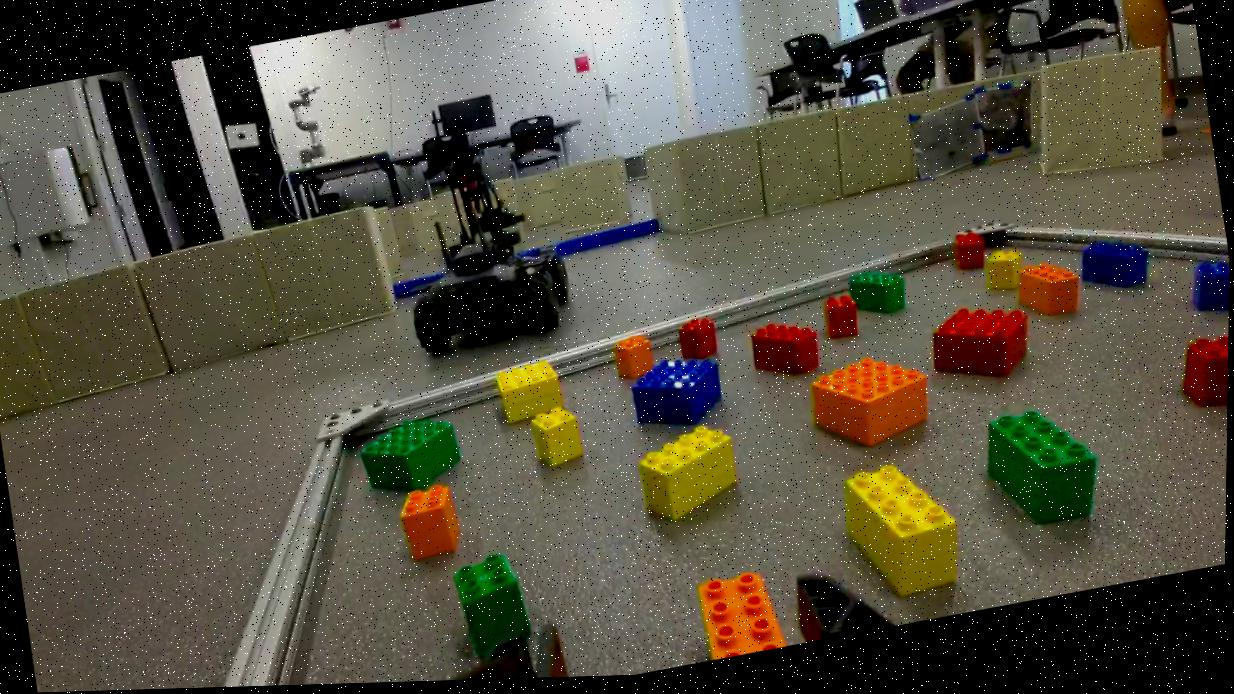2x2lego: (451, 552, 536, 667), (396, 483, 466, 569), (530, 406, 586, 474), (609, 335, 660, 387), (1188, 263, 1231, 324), (981, 251, 1028, 302), (676, 318, 721, 368), (821, 294, 862, 345), (950, 233, 987, 276)
2x4lego: (835, 456, 969, 609), (980, 404, 1109, 540), (631, 425, 743, 529), (697, 569, 790, 666), (1011, 258, 1086, 331), (750, 317, 823, 388), (1076, 237, 1153, 303), (1177, 335, 1230, 423), (846, 269, 909, 326)
4x4lego: (802, 352, 938, 462), (924, 297, 1038, 397), (358, 411, 466, 503), (626, 351, 730, 438), (491, 359, 566, 428)
